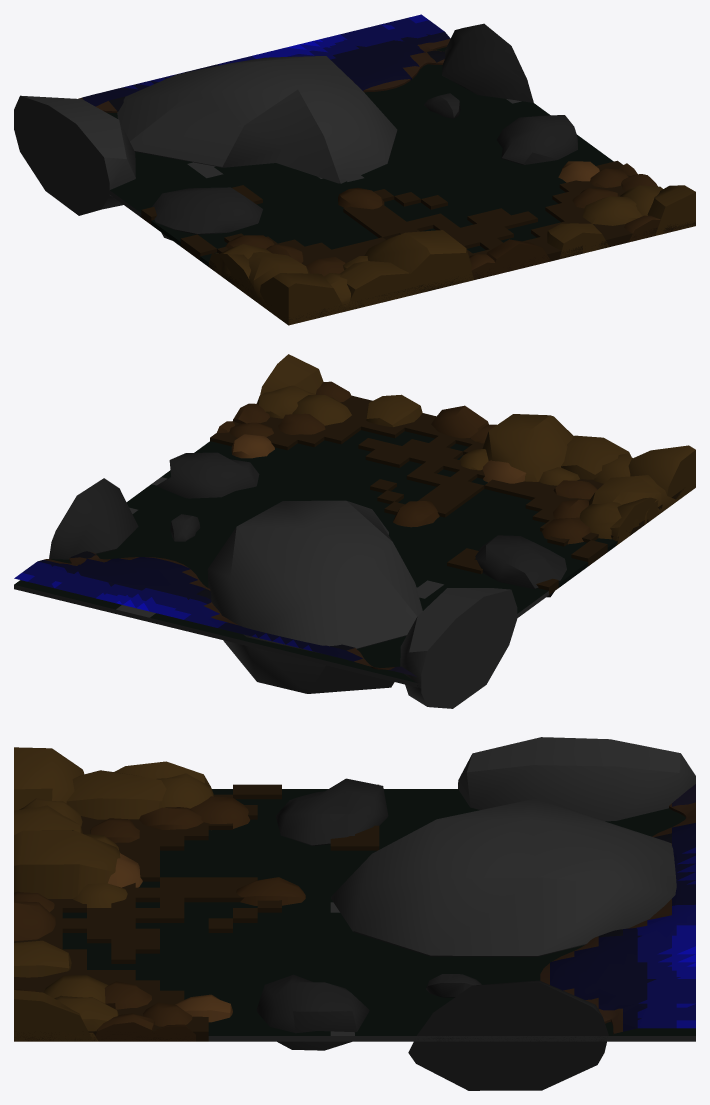
Rendered from holes_rocks_bm_damaged.glb.
3 renders of one model, top to bottom at view 1: azimuth 30°, elevation 25°; view 2: azimuth 150°, elevation 25°; view 3: azimuth 270°, elevation 25°, orthographic. The views are drawn at different scales.
Parts seen in each view (by area): view 1: holes_rocks_bm_damaged_pit, holes_rocks_bm_damaged_stone18, holes_rocks_bm_damaged_dirt_base, holes_rocks_bm_damaged_stone14, holes_rocks_bm_damaged_pool, holes_rocks_bm_damaged_stone19, holes_rocks_bm_damaged_dirt_49, holes_rocks_bm_damaged_stone25, holes_rocks_bm_damaged_dirt_31, holes_rocks_bm_damaged_stone26, holes_rocks_bm_damaged_dirt_15, holes_rocks_bm_damaged_dirt_30 (+16 smaller); view 2: holes_rocks_bm_damaged_pit, holes_rocks_bm_damaged_stone18, holes_rocks_bm_damaged_dirt_base, holes_rocks_bm_damaged_stone14, holes_rocks_bm_damaged_pool, holes_rocks_bm_damaged_stone19, holes_rocks_bm_damaged_dirt_49, holes_rocks_bm_damaged_stone26, holes_rocks_bm_damaged_stone25, holes_rocks_bm_damaged_dirt_31, holes_rocks_bm_damaged_dirt_15, holes_rocks_bm_damaged_dirt_86 (+16 smaller); view 3: holes_rocks_bm_damaged_pit, holes_rocks_bm_damaged_stone18, holes_rocks_bm_damaged_dirt_base, holes_rocks_bm_damaged_stone19, holes_rocks_bm_damaged_pool, holes_rocks_bm_damaged_stone14, holes_rocks_bm_damaged_dirt_49, holes_rocks_bm_damaged_stone26, holes_rocks_bm_damaged_stone25, holes_rocks_bm_damaged_dirt_86, holes_rocks_bm_damaged_dirt_31, holes_rocks_bm_damaged_dirt_30 (+20 smaller).
Boxes of the visible parts, <box> form: holes_rocks_bm_damaged_pit: <box>14,47,613,266</box>; holes_rocks_bm_damaged_stone18: <box>117,56,397,183</box>; holes_rocks_bm_damaged_dirt_base: <box>141,160,695,323</box>; holes_rocks_bm_damaged_stone14: <box>14,95,135,215</box>; holes_rocks_bm_damaged_pool: <box>78,14,450,112</box>; holes_rocks_bm_damaged_stone19: <box>442,23,533,102</box>; holes_rocks_bm_damaged_dirt_49: <box>364,230,473,297</box>; holes_rocks_bm_damaged_stone25: <box>152,187,262,240</box>; holes_rocks_bm_damaged_dirt_31: <box>258,273,345,325</box>; holes_rocks_bm_damaged_stone26: <box>497,115,578,164</box>; holes_rocks_bm_damaged_dirt_15: <box>340,261,420,311</box>; holes_rocks_bm_damaged_dirt_30: <box>647,185,695,235</box>; holes_rocks_bm_damaged_pit: <box>14,430,617,688</box>; holes_rocks_bm_damaged_stone18: <box>207,500,422,693</box>; holes_rocks_bm_damaged_dirt_base: <box>210,395,695,594</box>; holes_rocks_bm_damaged_stone14: <box>400,588,517,708</box>; holes_rocks_bm_damaged_pool: <box>14,551,416,676</box>; holes_rocks_bm_damaged_stone19: <box>49,478,138,559</box>; holes_rocks_bm_damaged_dirt_49: <box>482,414,573,481</box>; holes_rocks_bm_damaged_stone26: <box>157,452,259,498</box>; holes_rocks_bm_damaged_stone25: <box>475,535,566,597</box>; holes_rocks_bm_damaged_dirt_31: <box>628,445,695,506</box>; holes_rocks_bm_damaged_dirt_15: <box>561,435,631,479</box>; holes_rocks_bm_damaged_dirt_86: <box>588,475,676,524</box>; holes_rocks_bm_damaged_pit: <box>62,789,695,1041</box>; holes_rocks_bm_damaged_stone18: <box>331,799,676,956</box>; holes_rocks_bm_damaged_dirt_base: <box>14,784,379,1041</box>; holes_rocks_bm_damaged_stone19: <box>408,980,608,1090</box>; holes_rocks_bm_damaged_pool: <box>540,784,695,1034</box>; holes_rocks_bm_damaged_stone14: <box>458,737,695,821</box>; holes_rocks_bm_damaged_dirt_49: <box>14,830,120,898</box>; holes_rocks_bm_damaged_stone26: <box>256,974,369,1050</box>; holes_rocks_bm_damaged_stone25: <box>276,778,388,845</box>; holes_rocks_bm_damaged_dirt_86: <box>66,770,166,819</box>; holes_rocks_bm_damaged_dirt_31: <box>14,747,84,810</box>; holes_rocks_bm_damaged_dirt_30: <box>14,990,91,1041</box>.
Size of the model in its own units: 23.98 by 7.71 by 27.98.
